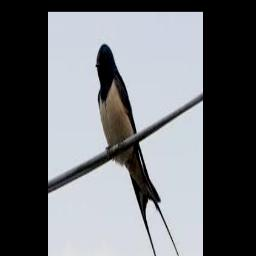Swallow: (95, 44, 180, 256)
